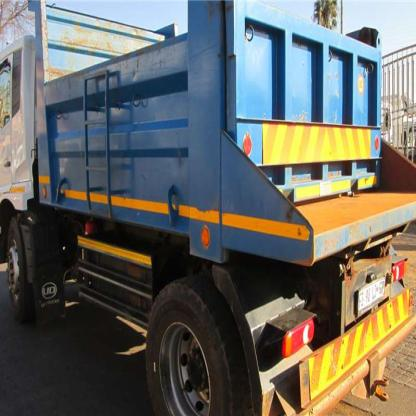dump_truck: (2, 2, 415, 416)
